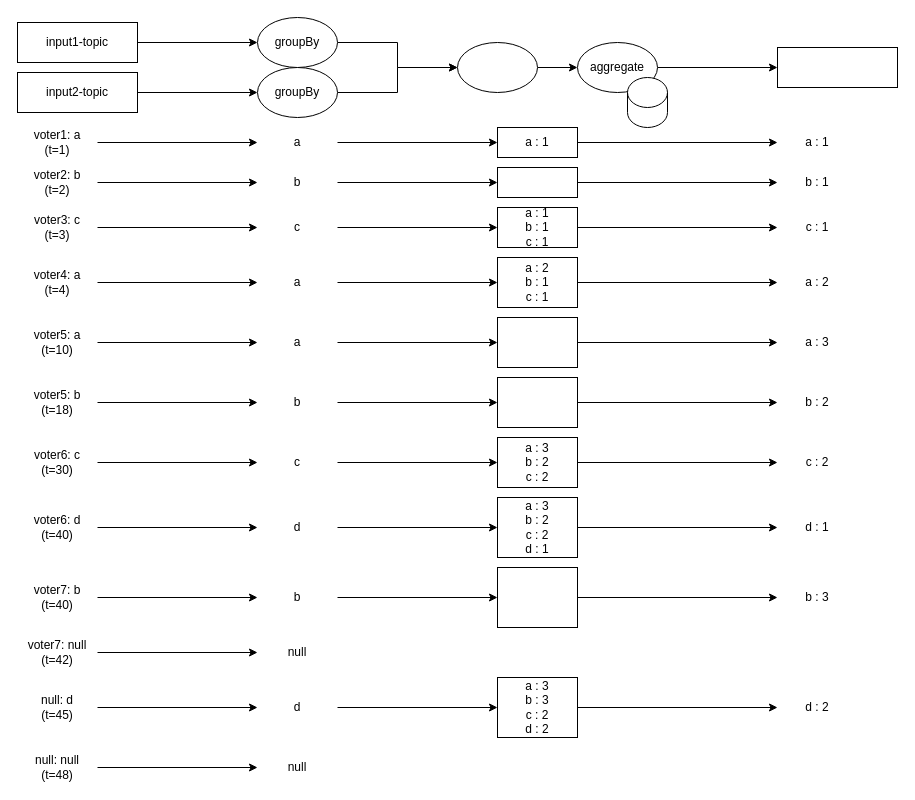
Some shapes in this 915 by 800 pixel diagram are drawn without their labels. Here are the shapes that lost their labels. From the top down, the box of each, then its label:
(456, 42, 538, 92): cogroup
(776, 46, 898, 88): output-topic
(496, 166, 578, 198): a : 1 b : 1
(496, 316, 578, 368): a : 3 b : 1 c : 1
(496, 376, 578, 428): a : 3 b : 2 c : 1
(496, 566, 578, 628): a : 3 b : 3 c : 2 d : 1
